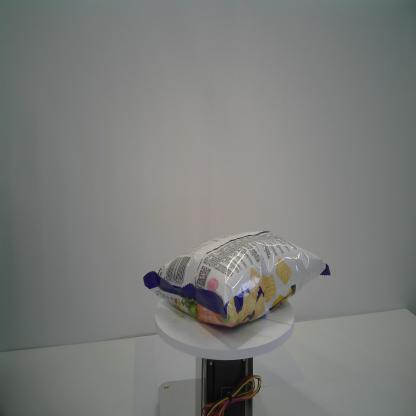Puffed Food: (141, 228, 332, 332)
